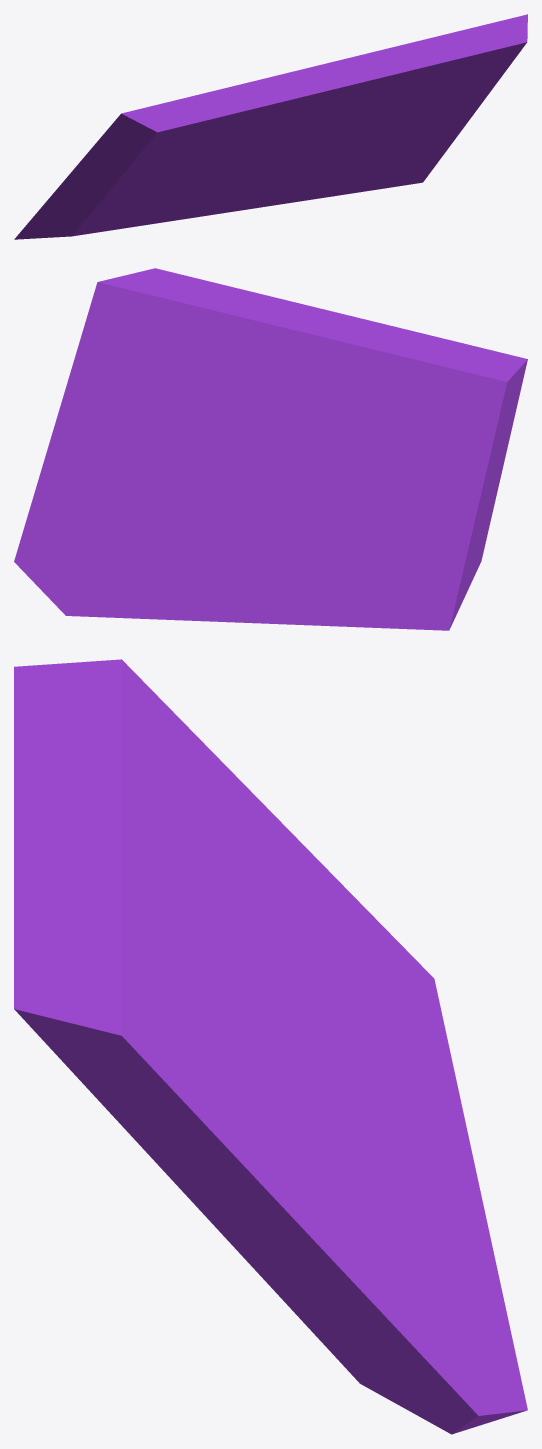
File: Window_125_3_chunks.fbx
3 views of the same model, one above another, from view 1: azimuth 30°, elevation 25°; view 2: azimuth 150°, elevation 25°; view 3: azimuth 270°, elevation 25° (orthographic). The views are drawn at different scales.
Parts seen in each view (by area): view 1: Window_125_3_0, Window_125_3_6, Window_125_3_4, Window_125_3_1, Window_125_3_5, Window_125_3_3; view 2: Window_125_3_0, Window_125_3_1, Window_125_3_4, Window_125_3_6, Window_125_3_2, Window_125_3_3, Window_125_3_5; view 3: Window_125_3_1, Window_125_3_0, Window_125_3_4, Window_125_3_6, Window_125_3_2, Window_125_3_3, Window_125_3_5.
Part boxes in pixels (x1,y1,x2,y2): Window_125_3_0: (14, 123, 316, 239); Window_125_3_6: (113, 59, 357, 155); Window_125_3_4: (340, 14, 527, 144); Window_125_3_1: (294, 65, 509, 202); Window_125_3_5: (260, 67, 407, 139); Window_125_3_3: (207, 128, 354, 163); Window_125_3_0: (250, 394, 519, 630); Window_125_3_1: (14, 289, 212, 617); Window_125_3_4: (95, 268, 292, 446); Window_125_3_6: (281, 318, 527, 430); Window_125_3_2: (113, 456, 269, 622); Window_125_3_3: (206, 383, 402, 470); Window_125_3_5: (276, 297, 375, 322); Window_125_3_1: (71, 1044, 527, 1434); Window_125_3_0: (146, 685, 482, 1202); Window_125_3_4: (14, 866, 285, 1075); Window_125_3_6: (14, 659, 210, 922); Window_125_3_2: (295, 1026, 516, 1356); Window_125_3_3: (188, 831, 296, 1077); Window_125_3_5: (14, 805, 76, 898).
Size of the model in its own units: 770 by 400 by 419.
